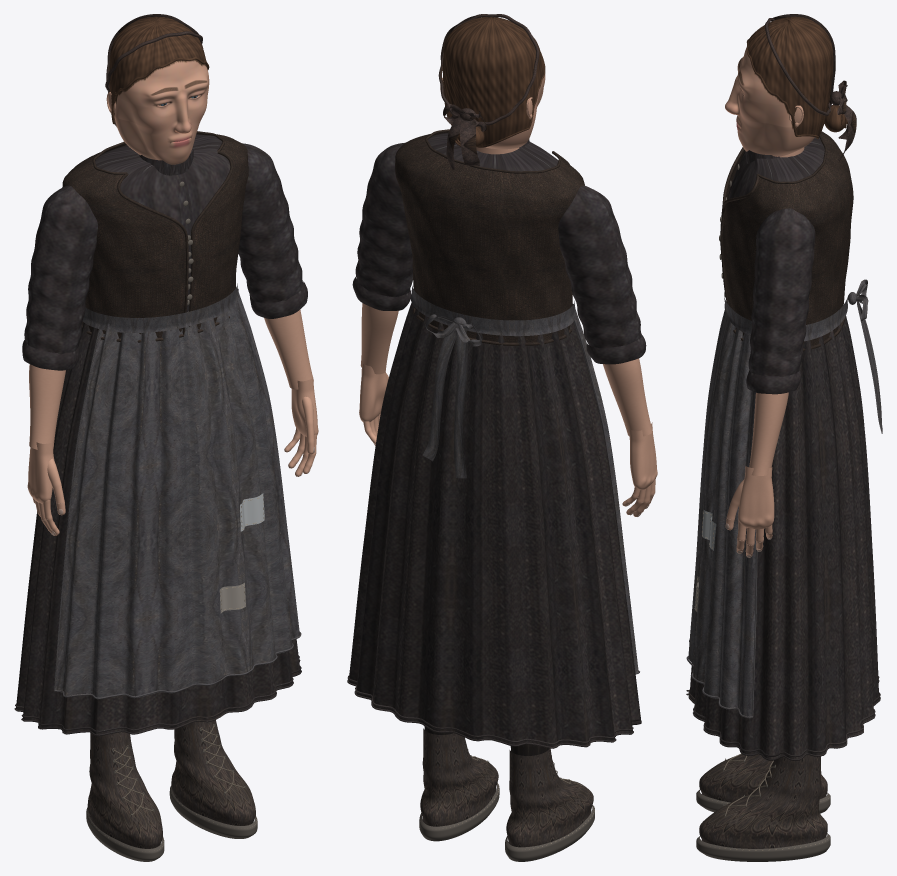
The model's file is viktoria_gabriel_v03.glb.
3 renders of one model, left to right at view 1: azimuth 30°, elevation 25°; view 2: azimuth 150°, elevation 25°; view 3: azimuth 270°, elevation 25°, orthographic. The views are drawn at different scales.
Parts seen in each view (by area): view 1: apron, dress-skirt, vest, sleeve--1, face, sleeve-1, boot-upper--1, boot-upper-1, bodice, hair-shell, waistband, forearm--1 (+13 smaller); view 2: dress-skirt, vest, hair-shell, sleeve--1, sleeve-1, boot-upper--1, boot-upper-1, waistband, forearm--1, hand--1, bodice, forearm-1 (+13 smaller); view 3: dress-skirt, apron, vest, sleeve-1, boot-upper-1, hair-shell, face, hand-1, boot-upper--1, bodice, forearm-1, boot-sole-1 (+11 smaller).
Part boxes in pixels (x1=…): apron: x1=55, y1=289, x2=299, y2=698; dress-skirt: x1=16, y1=322, x2=300, y2=736; vest: x1=62, y1=133, x2=248, y2=338; sleeve--1: x1=24, y1=185, x2=97, y2=354; face: x1=114, y1=59, x2=209, y2=164; sleeve-1: x1=238, y1=143, x2=303, y2=303; boot-upper--1: x1=87, y1=732, x2=162, y2=848; boot-upper-1: x1=171, y1=720, x2=255, y2=825; bodice: x1=95, y1=134, x2=230, y2=224; hair-shell: x1=109, y1=16, x2=206, y2=118; waistband: x1=82, y1=283, x2=238, y2=332; forearm--1: x1=29, y1=364, x2=65, y2=449; dress-skirt: x1=348, y1=302, x2=641, y2=746; vest: x1=395, y1=132, x2=584, y2=342; hair-shell: x1=442, y1=17, x2=544, y2=146; sleeve--1: x1=558, y1=185, x2=641, y2=348; sleeve-1: x1=355, y1=143, x2=412, y2=296; boot-upper--1: x1=506, y1=748, x2=593, y2=847; boot-upper-1: x1=420, y1=728, x2=498, y2=826; waistband: x1=410, y1=286, x2=575, y2=336; forearm--1: x1=603, y1=358, x2=652, y2=436; hand--1: x1=622, y1=422, x2=657, y2=516; bodice: x1=428, y1=132, x2=558, y2=171; forearm-1: x1=360, y1=303, x2=398, y2=374; dress-skirt: x1=689, y1=316, x2=879, y2=760; apron: x1=688, y1=310, x2=756, y2=716; vest: x1=722, y1=131, x2=853, y2=345; sleeve-1: x1=748, y1=208, x2=815, y2=376; boot-upper-1: x1=699, y1=755, x2=827, y2=848; hair-shell: x1=748, y1=16, x2=833, y2=136; face: x1=725, y1=47, x2=814, y2=156; hand-1: x1=726, y1=466, x2=774, y2=556; boot-upper--1: x1=699, y1=754, x2=827, y2=802; bodice: x1=729, y1=137, x2=824, y2=198; forearm-1: x1=749, y1=392, x2=788, y2=475; boot-sole-1: x1=696, y1=833, x2=830, y2=861.
Size of the model in its own units: 0.599 by 1.63 by 0.3567.
24 materials, 15 textured.
